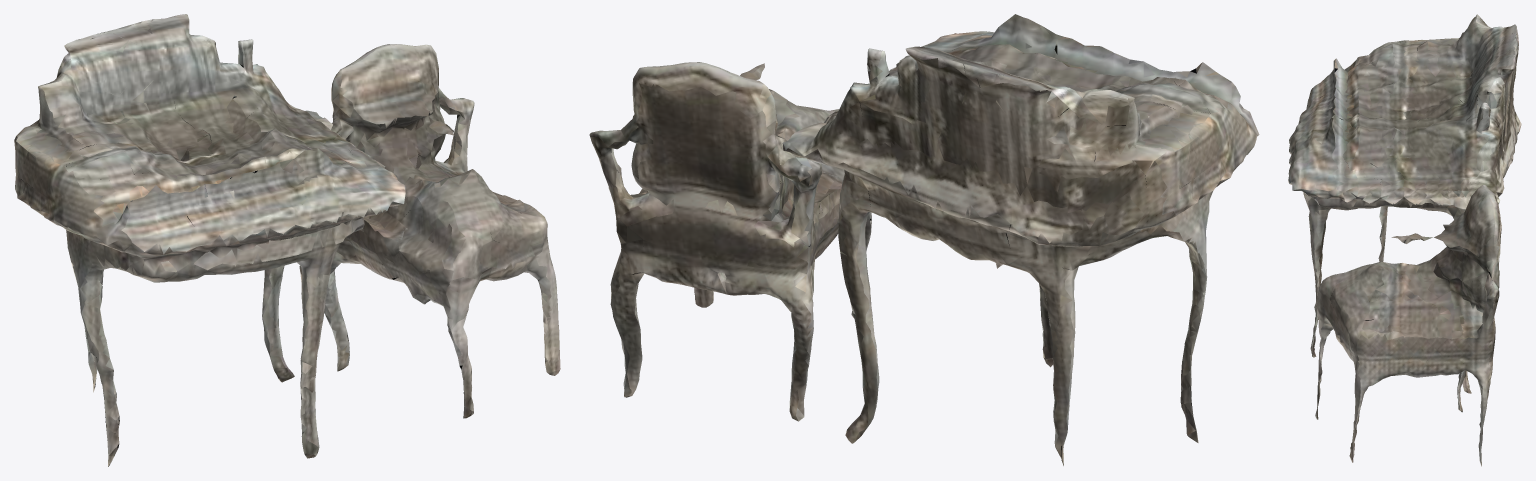
3 views of the same model, side by side, from view 1: azimuth 30°, elevation 25°; view 2: azimuth 150°, elevation 25°; view 3: azimuth 270°, elevation 25° (orthographic). The views are drawn at different scales.
Visible parts, largest first — view 1: world; view 2: world; view 3: world.
Boxes of the visible parts, x1,y1,x2,y2 form: world: (14,14,560,466); world: (589,14,1259,465); world: (1288,14,1521,466).
Size of the model in its own units: 0.8523 by 0.6222 by 0.4406.
1 material, 1 textured.
